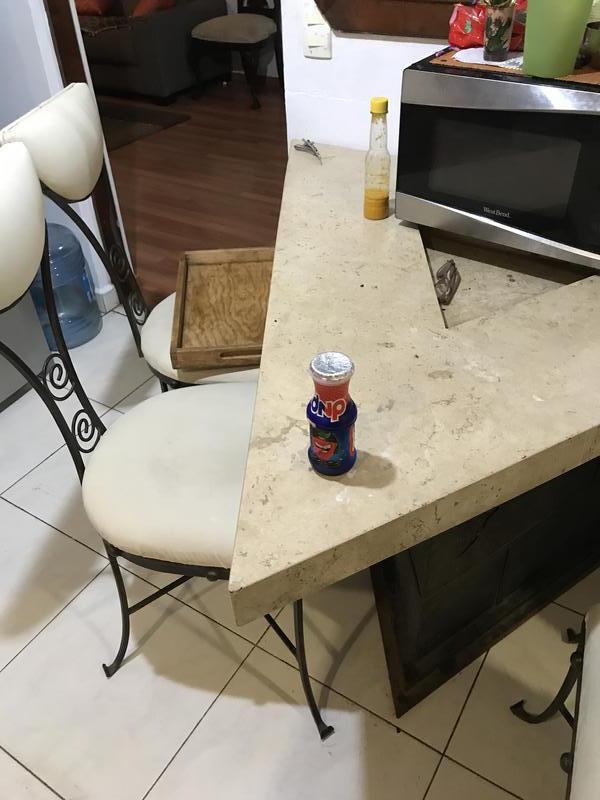danup: (305, 350, 361, 478)
